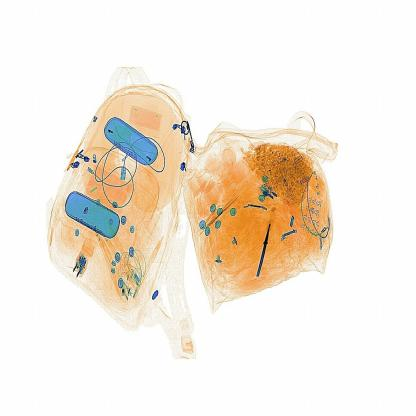gun: (253, 213, 272, 287)
